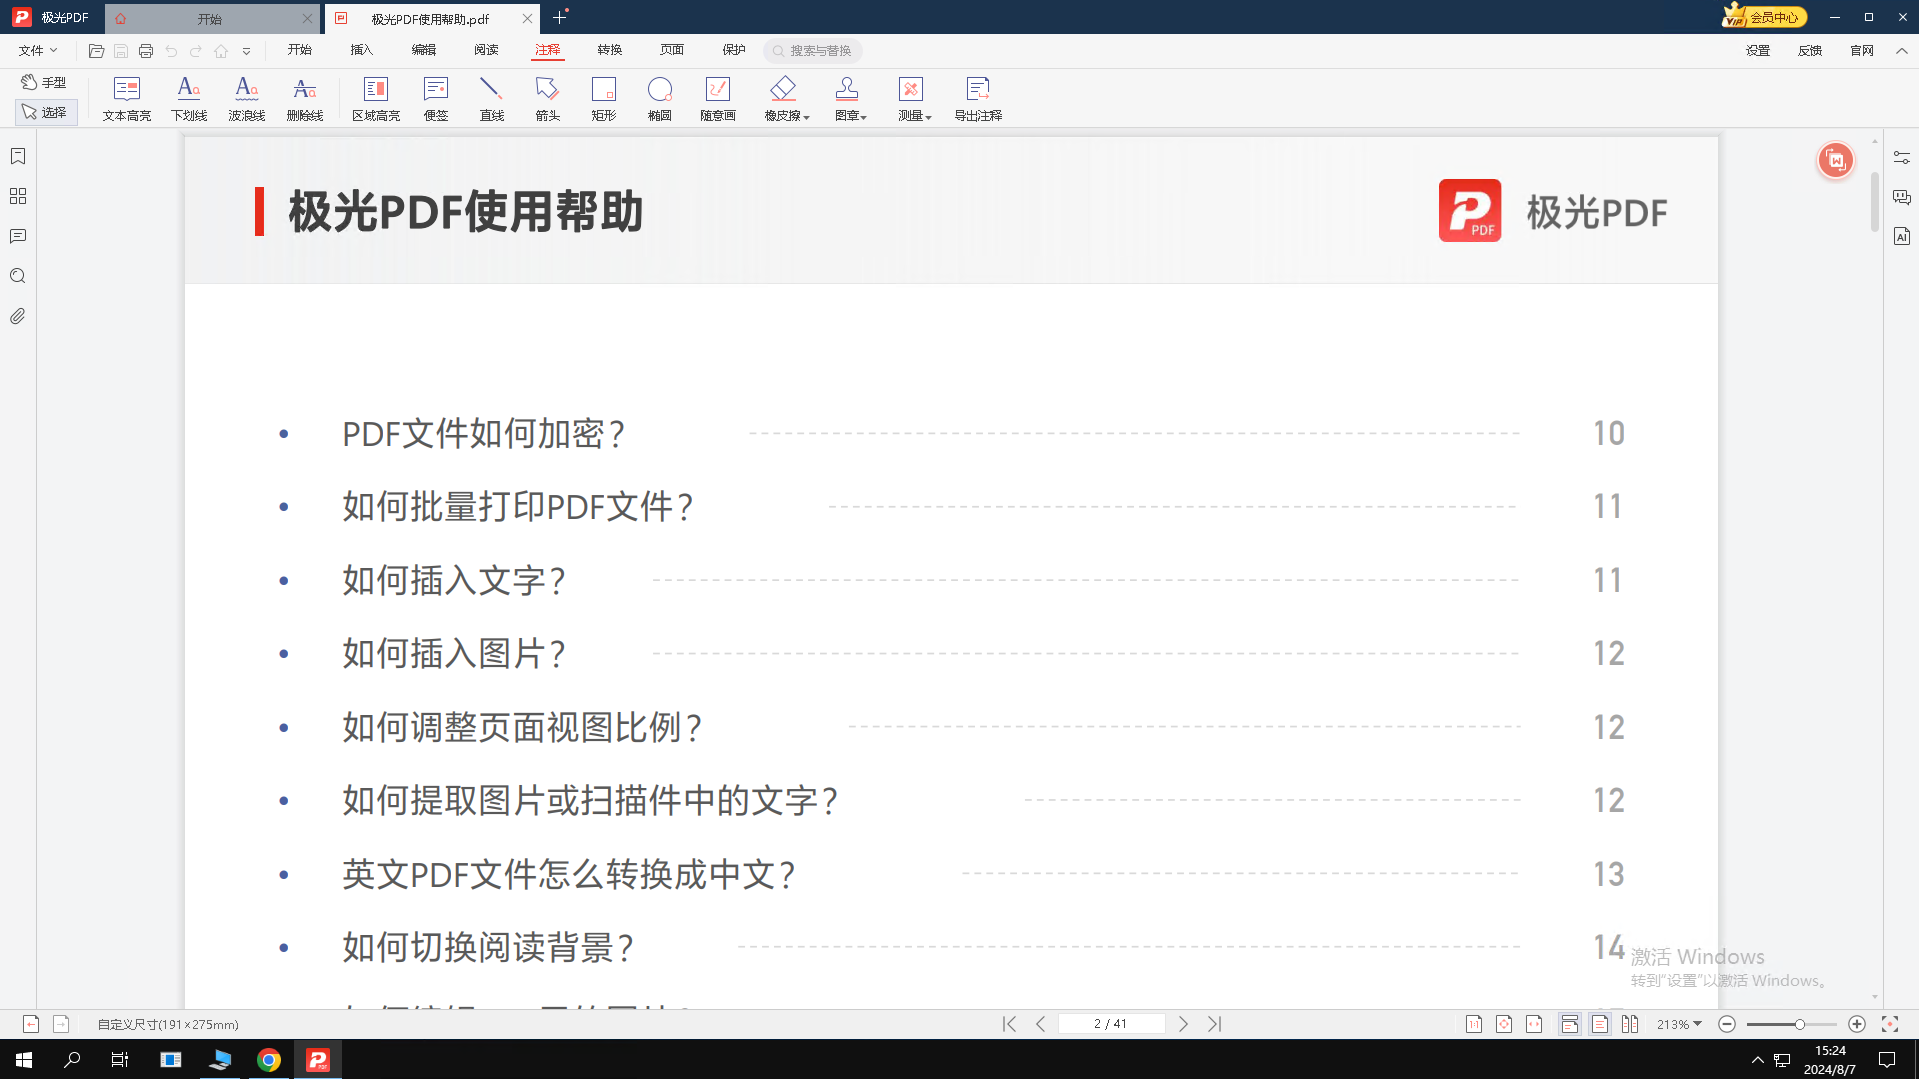Root: (36, 133, 1882, 1005)
Scrollable: (1864, 137, 1883, 1003)
